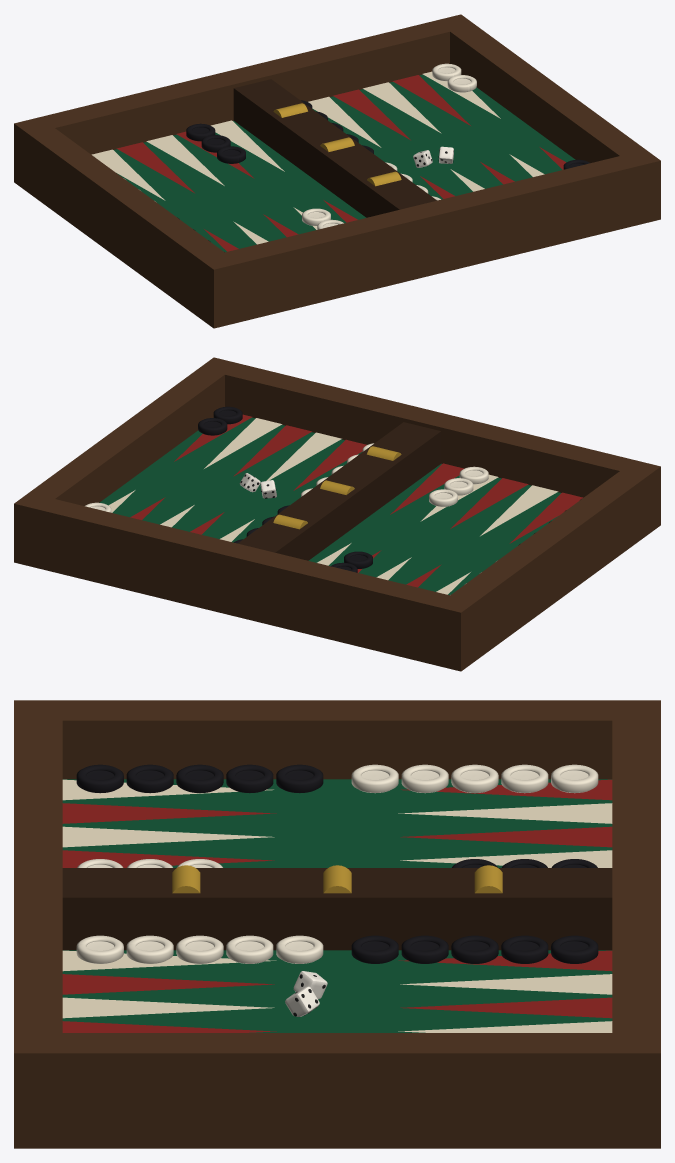
The model's file is fullset_classic.glb.
3 views of the same model, one above another, from view 1: azimuth 30°, elevation 25°; view 2: azimuth 150°, elevation 25°; view 3: azimuth 270°, elevation 25° (orthographic). The views are drawn at different scales.
Visible parts, largest first — view 1: wall_B, wall_T, base, felt_R, felt_L, wall_L, wall_R, bar, point_22, point_23, point_16, point_21 (+4 smaller); view 2: wall_T, wall_B, base, felt_R, wall_L, felt_L, wall_R, bar, point_3, point_2, point_9, point_10 (+4 smaller); view 3: wall_R, wall_L, bar, felt_L, felt_R, base, wall_B, wall_T, point_11, point_14, point_4, point_10 (+34 smaller).
Boxes of the visible parts, box(x1,y1,x2,y2) form: wall_B: box(199, 156, 660, 306); wall_T: box(14, 14, 474, 171); base: box(14, 161, 660, 328); felt_R: box(312, 74, 575, 199); felt_L: box(114, 120, 366, 252); wall_L: box(14, 119, 239, 307); wall_R: box(436, 14, 660, 204); bar: box(233, 79, 436, 217); point_22: box(363, 82, 441, 133); point_23: box(392, 75, 470, 125); point_16: box(146, 135, 224, 185); point_21: box(333, 89, 410, 140); wall_T: box(14, 499, 475, 649); wall_B: box(199, 357, 660, 503); base: box(14, 504, 660, 671); felt_R: box(99, 417, 362, 542); wall_L: box(435, 460, 660, 650); felt_L: box(308, 463, 560, 595); wall_R: box(14, 357, 239, 546); bar: box(238, 422, 441, 560); point_3: box(233, 425, 311, 476); point_2: box(204, 418, 282, 468); point_9: box(450, 478, 528, 528); point_10: box(480, 485, 558, 536); wall_R: box(14, 1033, 660, 1114); wall_L: box(14, 700, 660, 779); bar: box(62, 868, 612, 950); felt_L: box(62, 779, 612, 867); felt_R: box(62, 950, 612, 1032); base: box(14, 1114, 660, 1148); wall_B: box(14, 700, 62, 1114); wall_T: box(612, 700, 660, 1114); point_11: box(62, 803, 276, 823); point_14: box(398, 803, 612, 823); point_4: box(62, 997, 274, 1018); point_10: box(62, 826, 274, 847).
Size of the model in its own units: 0.62 by 0.079 by 0.48.
